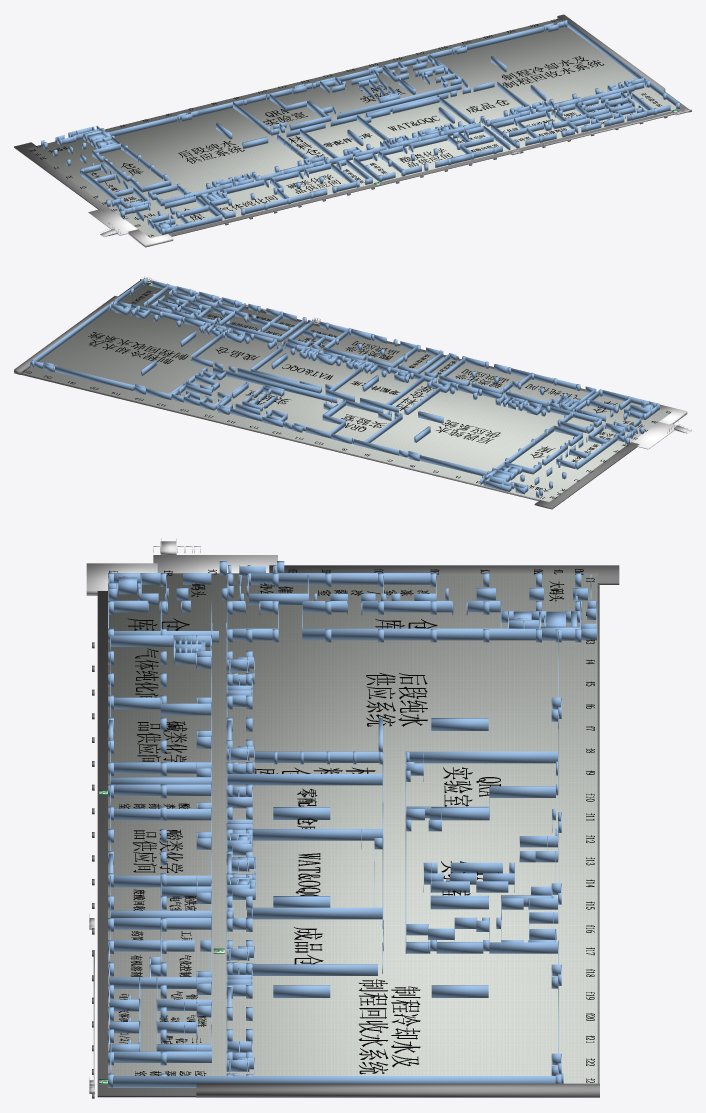
File: 1f_mini.gltf
The picture shows the model from 3 angles, top to bottom: view 1: azimuth 30°, elevation 25°; view 2: azimuth 150°, elevation 25°; view 3: azimuth 270°, elevation 25°; orthographic projection. The views are drawn at different scales.
Visible parts, largest first — view 1: fab_n1_dimian_1f, fab_n1_waiguan_1_65, fab_n1_waiguan_1_94, fab_n1_qiang_1f_31, zhileng, fab_n1_qiang_1f_204, fab_n1_waiguan_1_51, fab_n1_waiguan_1_62, fab_n1_qiang_1f_126, fab_n1_qiang_1f_134, fab_n1_waiguan_1_102, houduanchunshui (+1 smaller); view 2: fab_n1_dimian_1f, fab_n1_waiguan_1_65, fab_n1_waiguan_1_94, fab_n1_qiang_1f_31, zhileng, fab_n1_qiang_1f_204, fab_n1_waiguan_1_51, fab_n1_waiguan_1_62, fab_n1_qiang_1f_26, fab_n1_qiang_1f_126, houduanchunshui, fab_n1_qiang_1f_134 (+1 smaller); view 3: fab_n1_dimian_1f, fab_n1_waiguan_1_65, fab_n1_waiguan_1_62, fab_n1_qiang_1f_204, fab_n1_waiguan_1_94, fab_n1_qiang_1f_525, zhileng, fab_n1_qiang_1f_466, fab_n1_qiang_1f_43, fab_n1_waiguan_1_51, fab_n1_qiang_1f_21, fab_n1_qiang_1f_17 (+16 smaller).
Part boxes in pixels (x1=…): fab_n1_dimian_1f: x1=28, y1=19, x2=679, y2=238; fab_n1_waiguan_1_65: x1=39, y1=19, x2=689, y2=236; fab_n1_waiguan_1_94: x1=14, y1=142, x2=109, y2=210; fab_n1_qiang_1f_31: x1=337, y1=83, x2=461, y2=119; zhileng: x1=501, y1=56, x2=604, y2=87; fab_n1_qiang_1f_204: x1=567, y1=21, x2=677, y2=105; fab_n1_waiguan_1_51: x1=88, y1=209, x2=137, y2=235; fab_n1_waiguan_1_62: x1=557, y1=14, x2=665, y2=91; fab_n1_qiang_1f_126: x1=465, y1=26, x2=543, y2=50; fab_n1_qiang_1f_134: x1=109, y1=115, x2=177, y2=136; fab_n1_waiguan_1_102: x1=127, y1=229, x2=173, y2=247; houduanchunshui: x1=178, y1=141, x2=244, y2=163; fab_n1_dimian_1f: x1=22, y1=284, x2=671, y2=501; fab_n1_waiguan_1_65: x1=20, y1=280, x2=585, y2=500; fab_n1_waiguan_1_94: x1=534, y1=442, x2=639, y2=509; fab_n1_qiang_1f_31: x1=213, y1=367, x2=337, y2=403; zhileng: x1=88, y1=332, x2=188, y2=363; fab_n1_qiang_1f_204: x1=33, y1=279, x2=143, y2=361; fab_n1_waiguan_1_51: x1=631, y1=422, x2=677, y2=449; fab_n1_waiguan_1_62: x1=14, y1=296, x2=118, y2=374; fab_n1_qiang_1f_26: x1=237, y1=368, x2=319, y2=393; fab_n1_qiang_1f_126: x1=55, y1=366, x2=132, y2=390; houduanchunshui: x1=436, y1=420, x2=500, y2=443; fab_n1_qiang_1f_134: x1=419, y1=455, x2=487, y2=475; fab_n1_dimian_1f: x1=108, y1=573, x2=597, y2=1087; fab_n1_waiguan_1_65: x1=97, y1=583, x2=599, y2=1097; fab_n1_waiguan_1_62: x1=196, y1=1083, x2=599, y2=1097; fab_n1_qiang_1f_204: x1=113, y1=1076, x2=555, y2=1087; fab_n1_waiguan_1_94: x1=269, y1=565, x2=619, y2=584; fab_n1_qiang_1f_525: x1=302, y1=628, x2=540, y2=640; zhileng: x1=358, y1=979, x2=420, y2=1074; fab_n1_qiang_1f_466: x1=251, y1=573, x2=430, y2=584; fab_n1_qiang_1f_43: x1=409, y1=751, x2=557, y2=763; fab_n1_waiguan_1_51: x1=153, y1=555, x2=277, y2=573; fab_n1_qiang_1f_21: x1=227, y1=774, x2=382, y2=785; fab_n1_qiang_1f_17: x1=247, y1=907, x2=382, y2=919.
Size of the model in its own units: 349 by 5.05 by 141.
12 materials, 3 textured.
